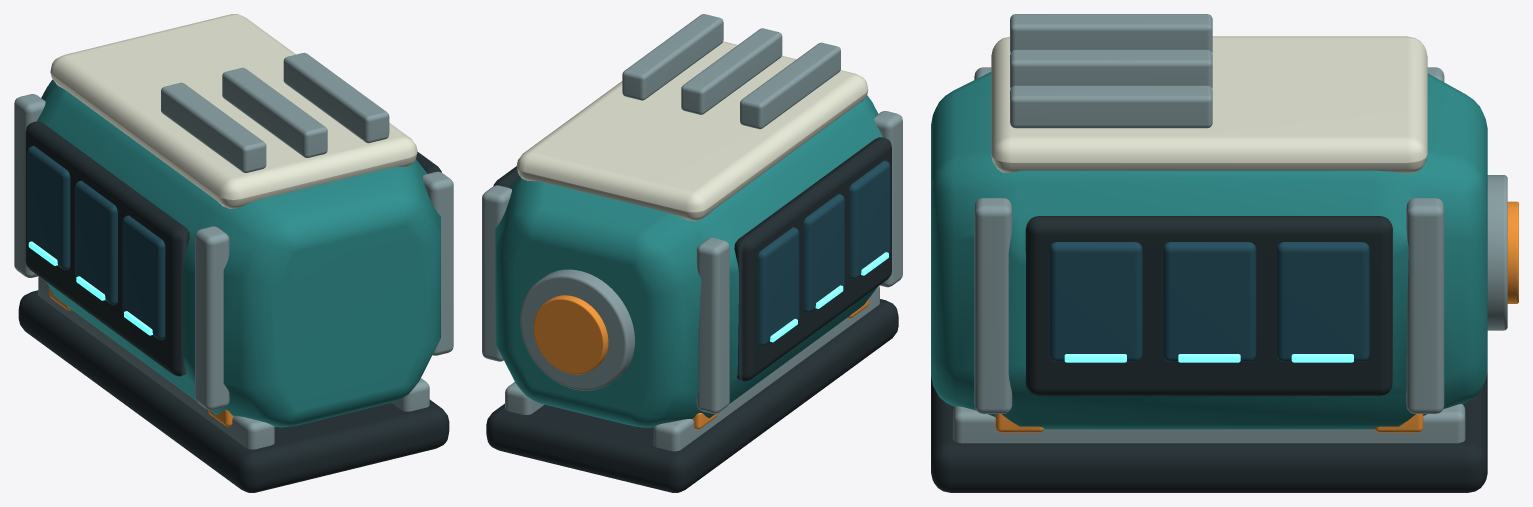
File: mobile_lab.glb
The picture shows the model from 3 angles, left to right: view 1: azimuth 30°, elevation 25°; view 2: azimuth 150°, elevation 25°; view 3: azimuth 270°, elevation 25°; orthographic projection. The views are drawn at different scales.
Visible parts, largest first — view 1: Sealed mobile laboratory, Load bearing coupling, Quick release rail, Laboratory dorsal armor, Sealed glass sample chamber, Culture illumination; view 2: Sealed mobile laboratory, Quick release rail, Load bearing coupling, Laboratory dorsal armor, Sealed glass sample chamber, Orange locking latch, Culture illumination; view 3: Sealed mobile laboratory, Load bearing coupling, Quick release rail, Laboratory dorsal armor, Sealed glass sample chamber, Orange locking latch, Culture illumination.
Boxes of the visible parts, x1,y1,x2,y2 form: Sealed mobile laboratory: (37, 79, 440, 427); Load bearing coupling: (18, 121, 449, 492); Quick release rail: (14, 52, 453, 449); Laboratory dorsal armor: (50, 14, 417, 208); Sealed glass sample chamber: (27, 145, 165, 339); Culture illumination: (28, 241, 152, 335); Sealed mobile laboratory: (495, 95, 882, 427); Quick release rail: (482, 14, 902, 451); Load bearing coupling: (486, 137, 898, 492); Laboratory dorsal armor: (516, 41, 868, 221); Sealed glass sample chamber: (758, 160, 890, 346); Orange locking latch: (533, 295, 869, 429); Culture illumination: (770, 252, 888, 342); Sealed mobile laboratory: (931, 72, 1487, 429); Load bearing coupling: (931, 216, 1487, 492); Quick release rail: (953, 14, 1507, 443); Laboratory dorsal armor: (991, 36, 1427, 173); Sealed glass sample chamber: (1049, 242, 1369, 361); Orange locking latch: (995, 201, 1518, 432); Culture illumination: (1064, 354, 1353, 362).
Size of the model in its own units: 1.8 by 1.9 by 2.64.
